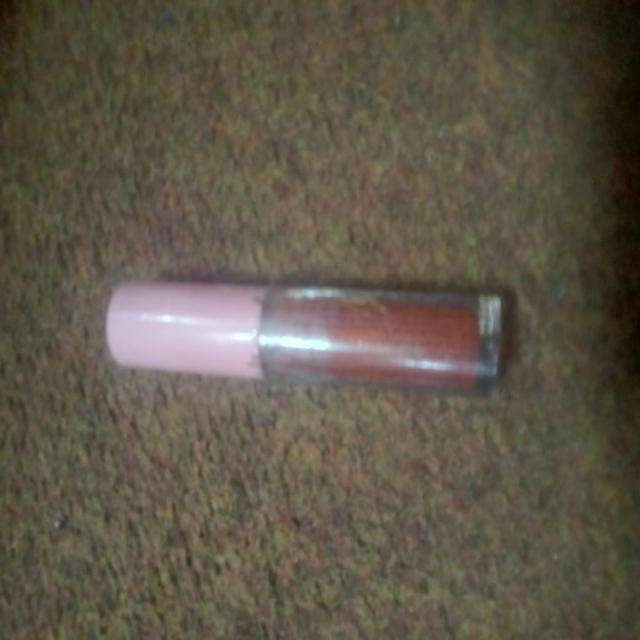lip gloss: (94, 237, 516, 427)
